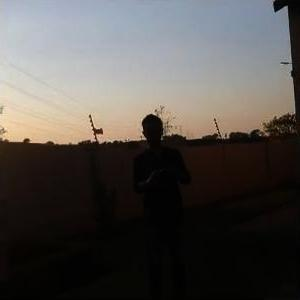follow: (130, 110, 197, 297)
